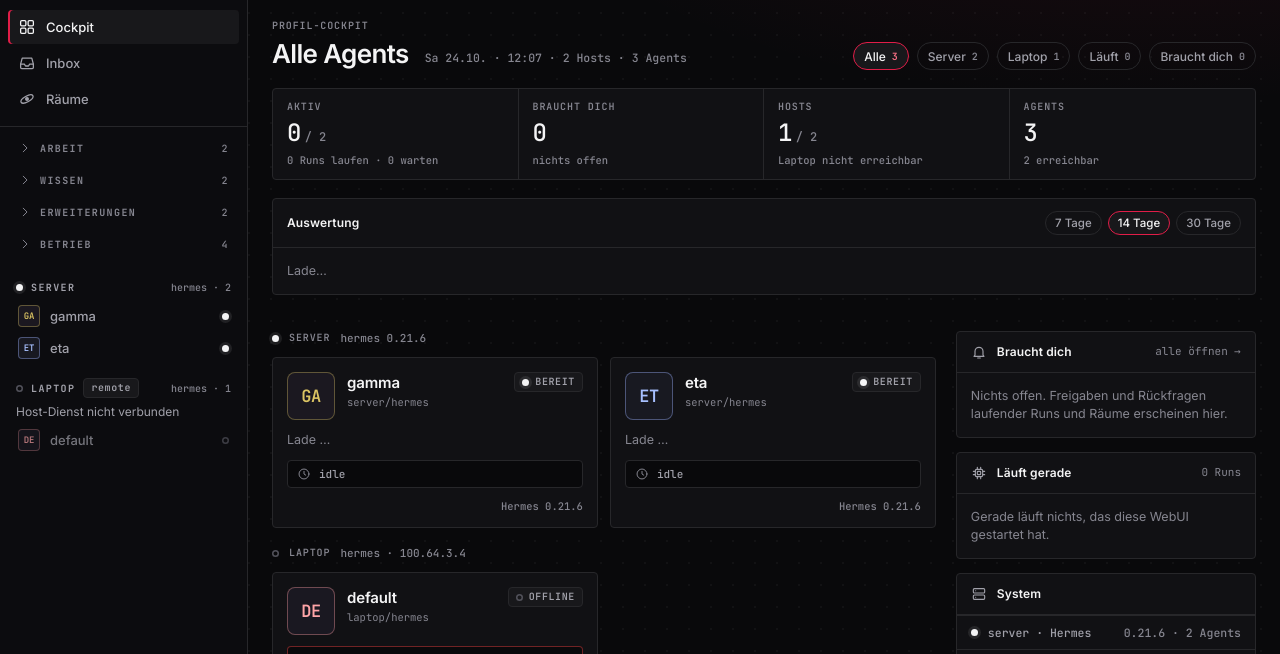
Test: Cockpit › does not stop a run when the person leaves its chat
This screenshot has width=1280, height=654.
Click the link "gamma". click: (73, 316)
box: [8,300,239,332]
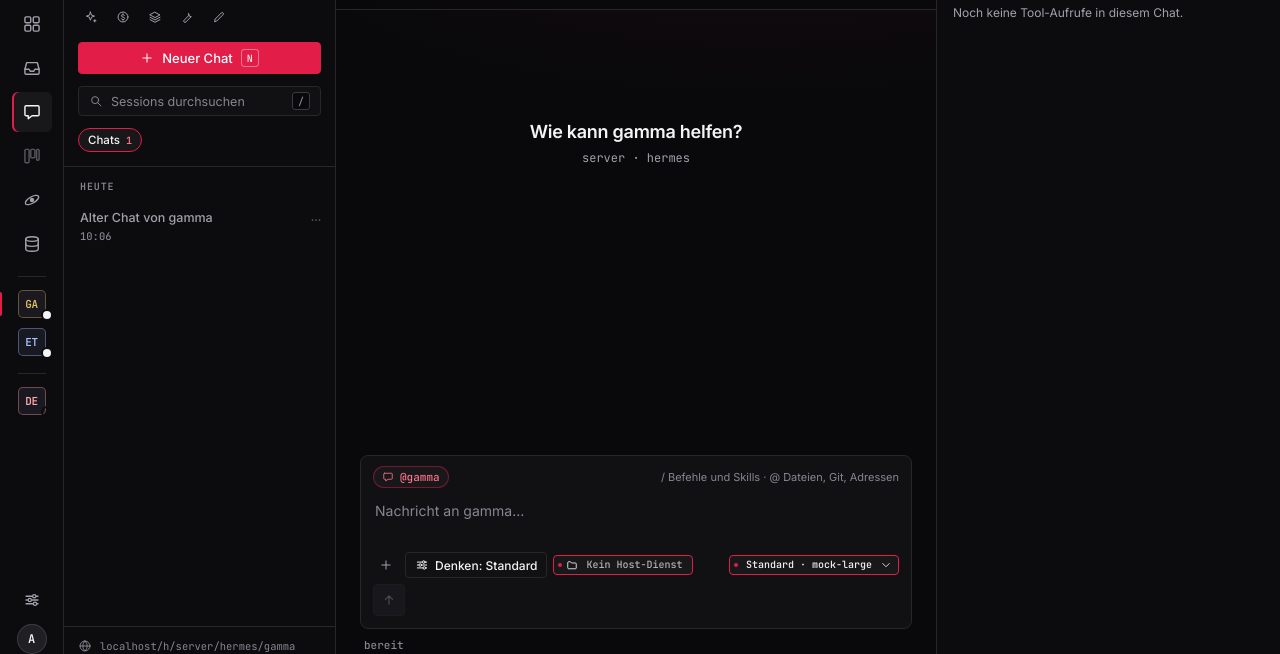
Result: the button named "Senden" is disabled at [373,584,405,616]
Type "lang" into the text box with placeholder "Nachricht an gamma…". click: (636, 520)
box: [373,498,899,542]
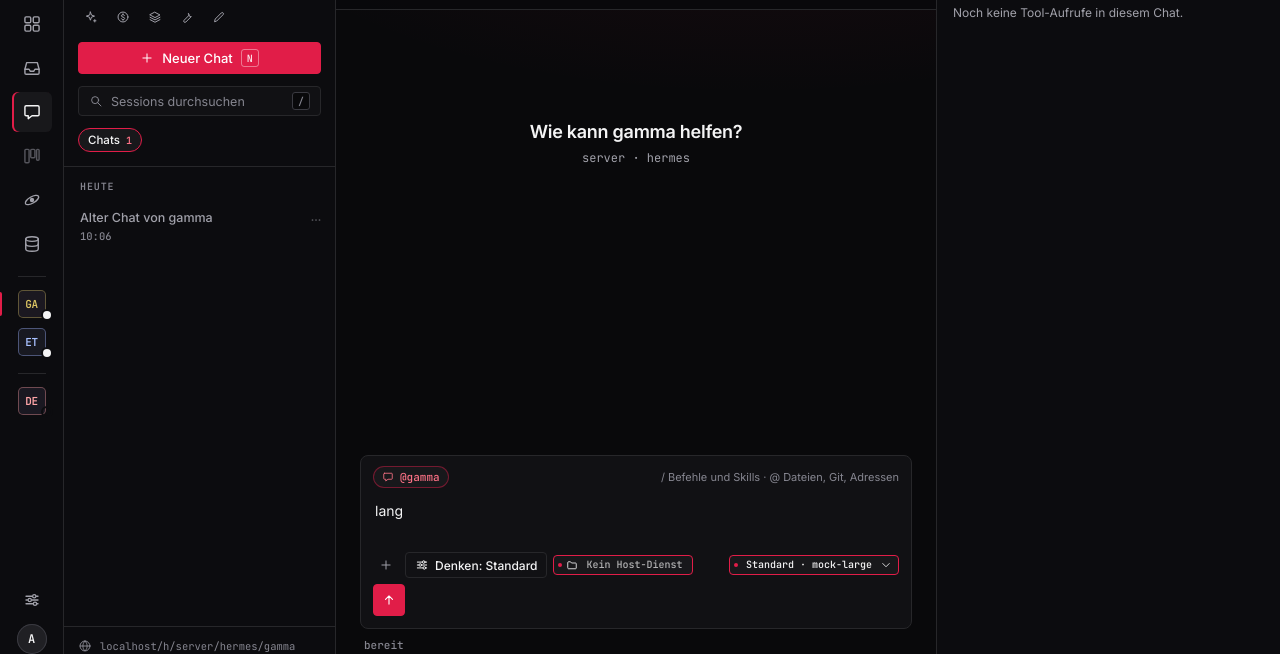
Click the button named "Senden". click: (389, 600)
box: [373,584,405,616]
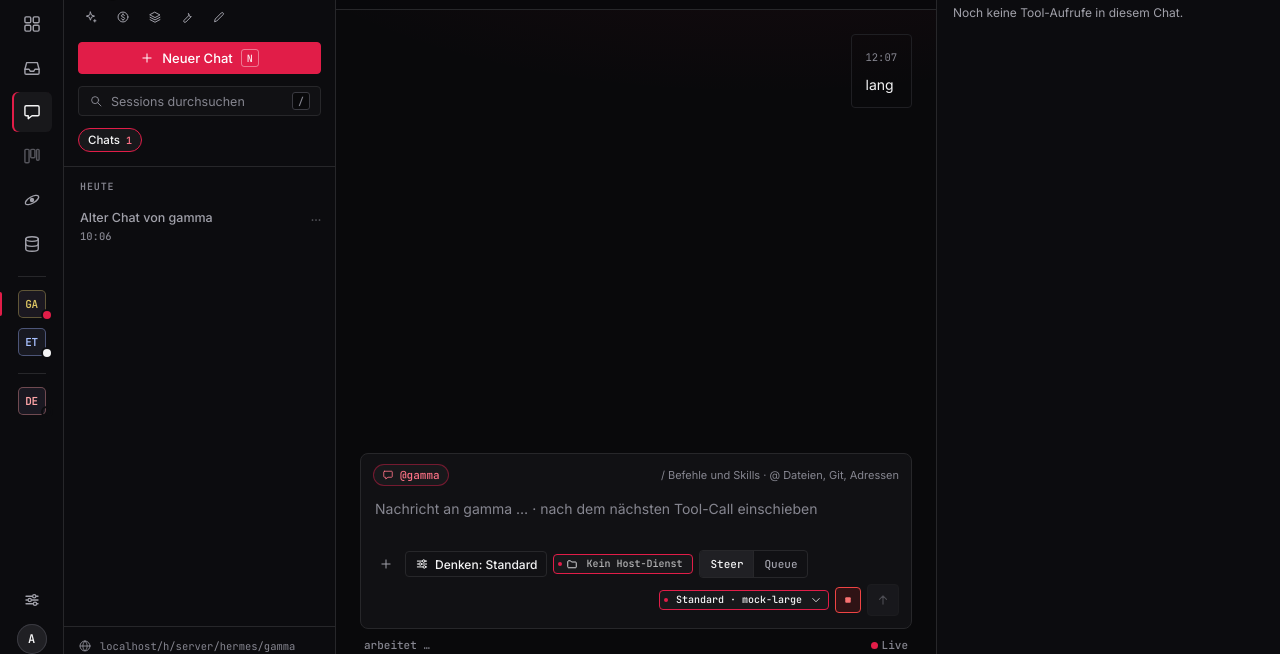
Click the link named "Cockpit". click: (32, 24)
box: [22,14,42,34]
(page scrolled)
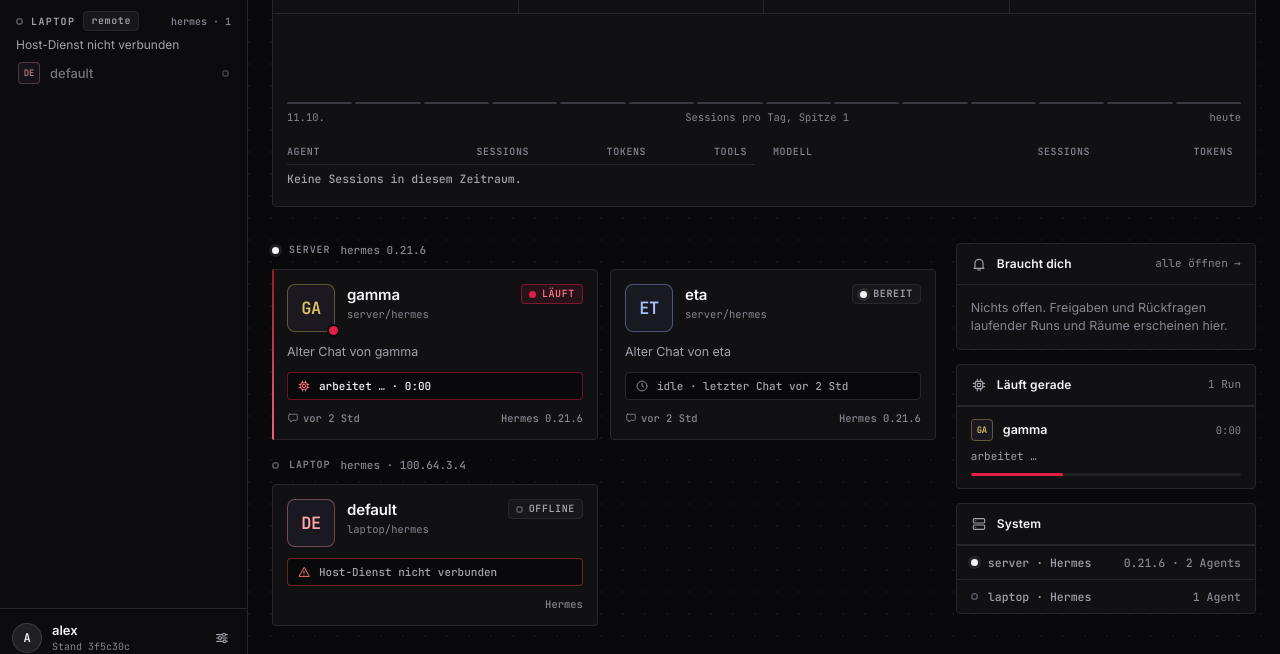
Click the link with aria-label "gamma, online". click: (311, 308)
box: [272,269,598,440]
(page scrolled)
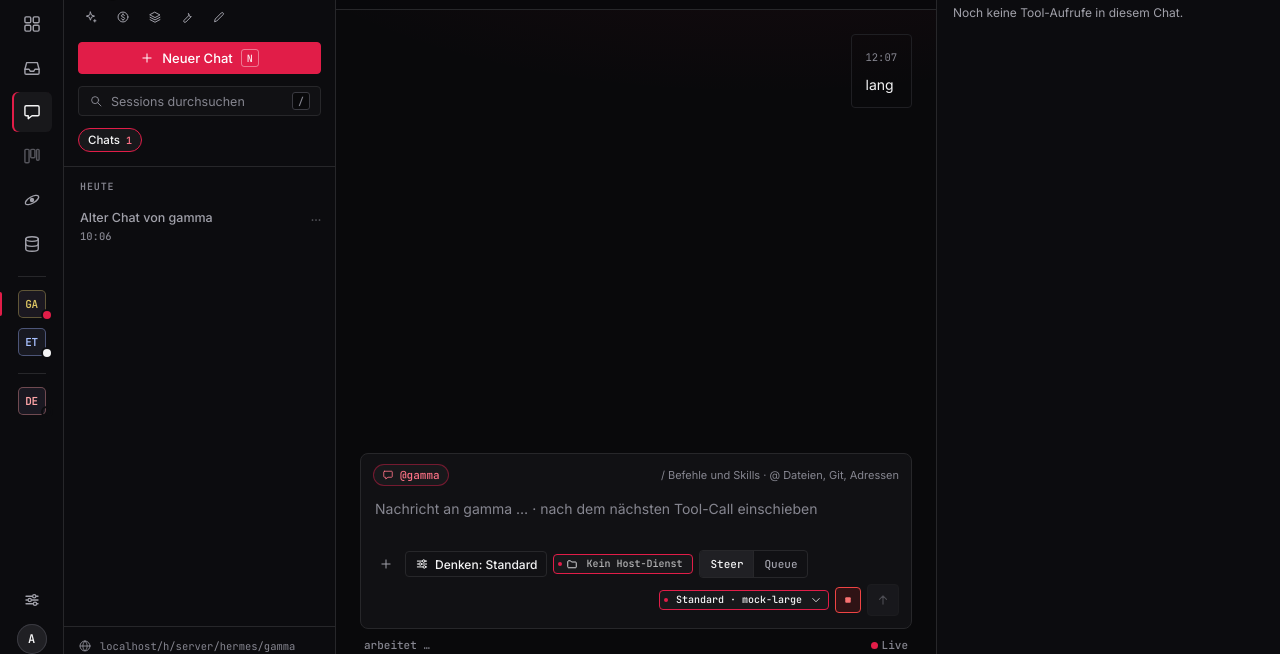
Result: the element named "Du" shows "lang" at [866,76,894,93]
